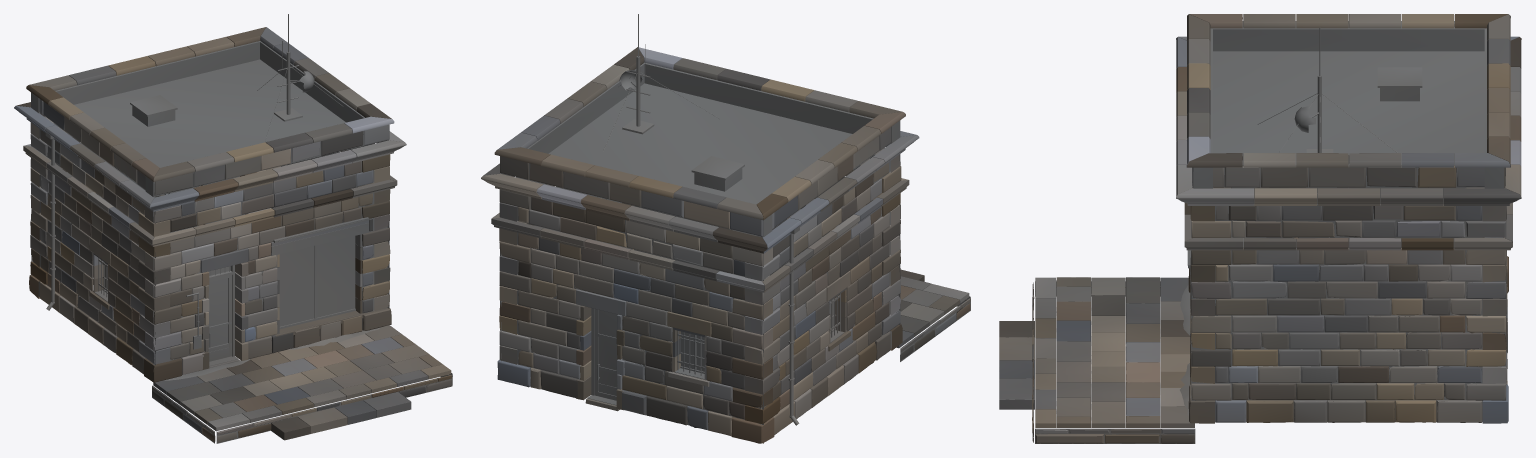
The model's file is ToolExchange_LOD0.glb.
The picture shows the model from 3 angles, left to right: view 1: azimuth 30°, elevation 25°; view 2: azimuth 150°, elevation 25°; view 3: azimuth 270°, elevation 25°; orthographic projection. The views are drawn at different scales.
Visible parts, largest first — view 1: ToolExchange_Masonry_LOD0, ToolExchange_Trim_LOD0, ToolExchange_Porch_LOD0, ToolExchange_Roof_LOD0, ToolExchange_Display_LOD0, ToolExchange_Metal_LOD0, ToolExchange_Glass_LOD0, ToolExchange_Sand_LOD0; view 2: ToolExchange_Masonry_LOD0, ToolExchange_Trim_LOD0, ToolExchange_Roof_LOD0, ToolExchange_Metal_LOD0, ToolExchange_Porch_LOD0, ToolExchange_Glass_LOD0; view 3: ToolExchange_Masonry_LOD0, ToolExchange_Trim_LOD0, ToolExchange_Porch_LOD0, ToolExchange_Roof_LOD0, ToolExchange_Metal_LOD0, ToolExchange_Sand_LOD0.
Part boxes in pixels (x1,y1,x2,y2): ToolExchange_Masonry_LOD0: (29,41,391,382); ToolExchange_Trim_LOD0: (14,27,406,369); ToolExchange_Porch_LOD0: (152,325,452,443); ToolExchange_Roof_LOD0: (74,59,345,167); ToolExchange_Display_LOD0: (279,236,355,326); ToolExchange_Metal_LOD0: (45,14,369,366); ToolExchange_Glass_LOD0: (104,199,230,347); ToolExchange_Sand_LOD0: (94,290,381,380); ToolExchange_Masonry_LOD0: (497,62,902,443); ToolExchange_Trim_LOD0: (481,47,919,410); ToolExchange_Roof_LOD0: (548,83,852,204); ToolExchange_Metal_LOD0: (587,14,840,425); ToolExchange_Porch_LOD0: (585,269,970,411); ToolExchange_Glass_LOD0: (681,233,833,371); ToolExchange_Masonry_LOD0: (1188,21,1508,423); ToolExchange_Trim_LOD0: (1176,14,1521,386); ToolExchange_Porch_LOD0: (999,277,1195,443); ToolExchange_Roof_LOD0: (1213,51,1484,157); ToolExchange_Metal_LOD0: (1188,27,1397,275); ToolExchange_Sand_LOD0: (1180,285,1190,415).
Bounding box in the file's own units: 8.46 × 9.52 × 11.73.
